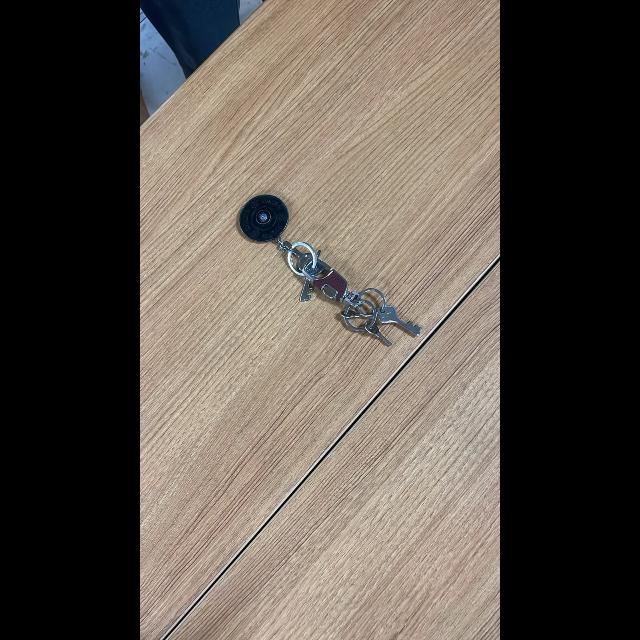keys: (230, 186, 428, 360)
